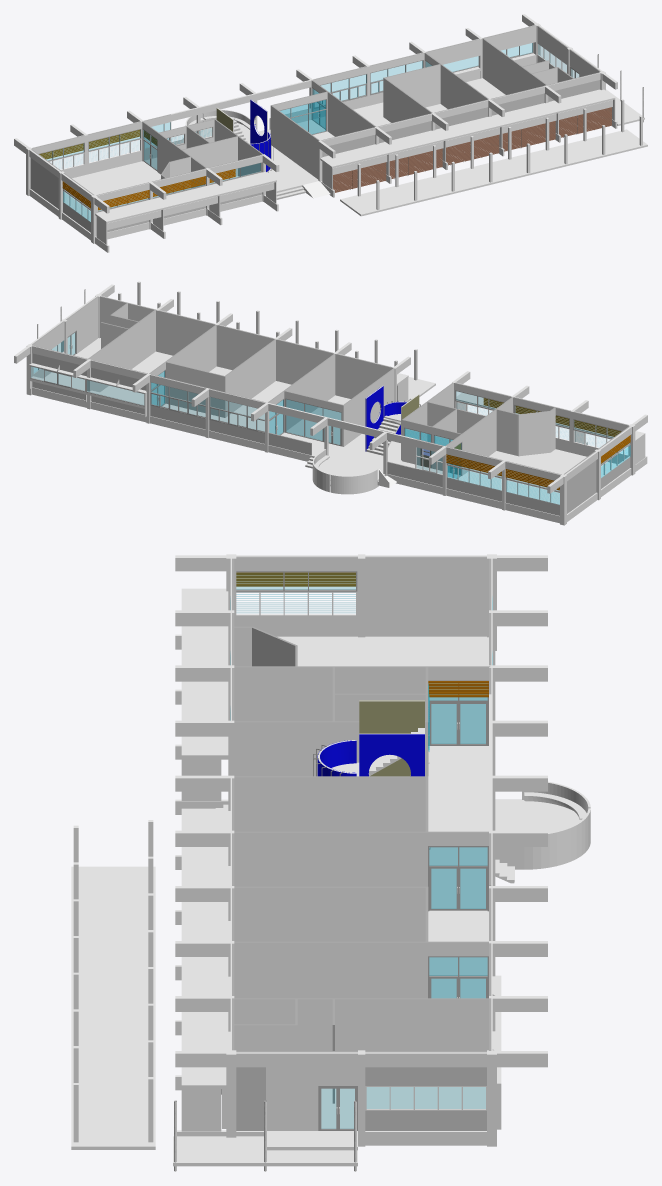
The picture shows the model from 3 angles, top to bottom: view 1: azimuth 30°, elevation 25°; view 2: azimuth 150°, elevation 25°; view 3: azimuth 270°, elevation 25°; orthographic projection. The views are drawn at different scales.
Parts seen in each view (by area): view 1: EN1060101, EN1060199, EN1060105, EN1060104, EN1060103, EN1060102; view 2: EN1060101, EN1060105, EN1060199, EN1060104, EN1060103, EN1060102; view 3: EN1060105, EN1060199, EN1060101, EN1060104, EN1060103, EN1060102.
Part boxes in pixels (bbox=[...]): EN1060101: bbox=[14, 110, 278, 252]; EN1060199: bbox=[127, 80, 647, 216]; EN1060105: bbox=[424, 14, 644, 156]; EN1060104: bbox=[296, 41, 504, 183]; EN1060103: bbox=[279, 92, 391, 192]; EN1060102: bbox=[157, 126, 213, 174]; EN1060101: bbox=[428, 371, 647, 525]; EN1060105: bbox=[14, 284, 216, 422]; EN1060199: bbox=[118, 281, 470, 495]; EN1060104: bbox=[132, 313, 336, 452]; EN1060103: bbox=[284, 342, 410, 446]; EN1060102: bbox=[402, 402, 487, 475]; EN1060105: bbox=[173, 942, 547, 1171]; EN1060199: bbox=[71, 666, 590, 1149]; EN1060101: bbox=[175, 554, 547, 800]; EN1060104: bbox=[175, 830, 547, 1035]; EN1060103: bbox=[175, 775, 430, 924]; EN1060102: bbox=[335, 667, 429, 776].
Size of what is drawn, in the model's own units: 50.05 by 5.1 by 20.92.
